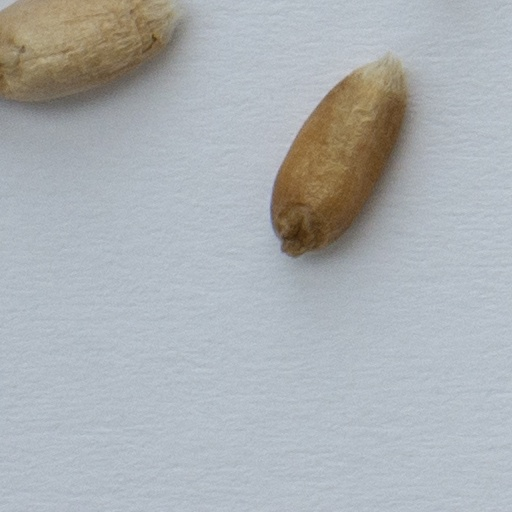Wheat-grain-poly: (268, 56, 405, 257), (0, 1, 184, 105)
